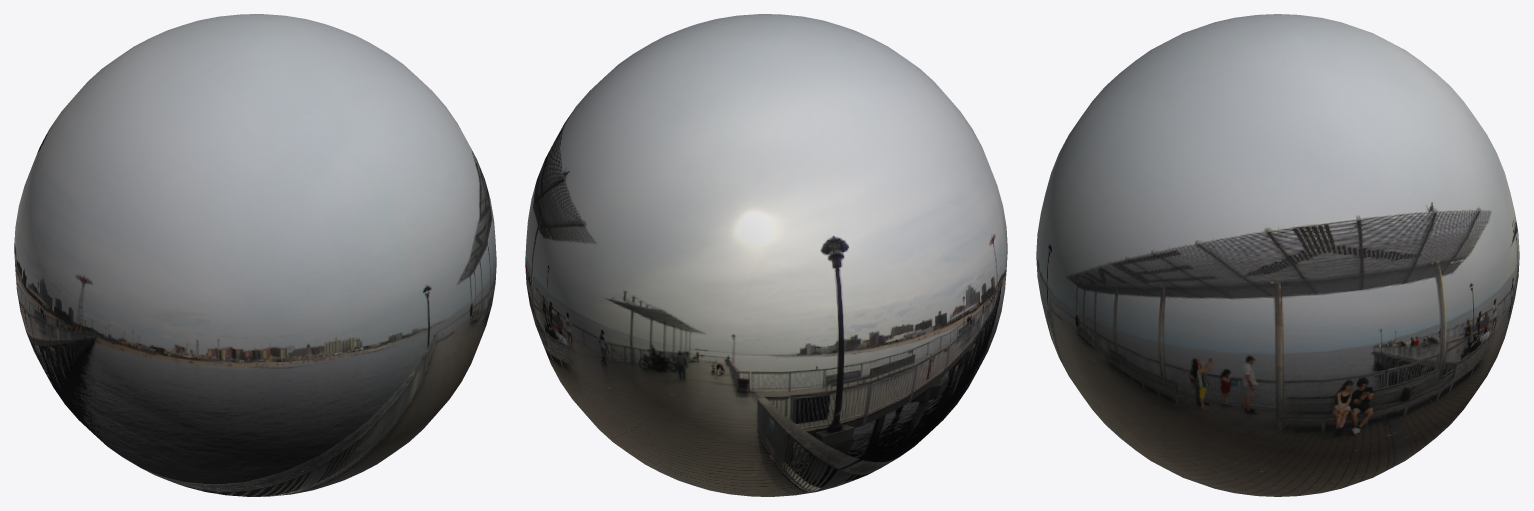
The model's file is sphere_360coneyisland.glb.
The picture shows the model from 3 angles, left to right: view 1: azimuth 30°, elevation 25°; view 2: azimuth 150°, elevation 25°; view 3: azimuth 270°, elevation 25°; orthographic projection.
Visible parts, largest first — view 1: pSphere1; view 2: pSphere1; view 3: pSphere1.
Part boxes in pixels (x1=…): pSphere1: x1=14, y1=14, x2=496, y2=496; pSphere1: x1=525, y1=14, x2=1007, y2=496; pSphere1: x1=1036, y1=14, x2=1519, y2=496.
Size of the model in its own units: 2 by 2 by 2.
Materials: 1 (1 with a texture image).
